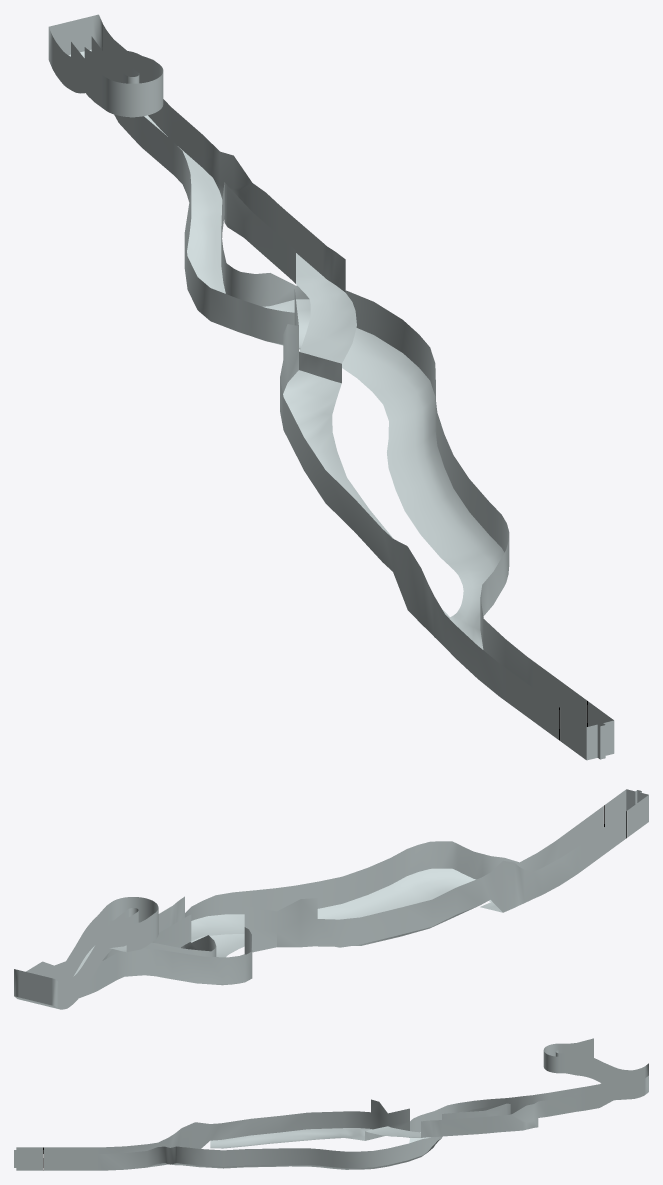
File: Track1.fbx
The picture shows the model from 3 angles, top to bottom: view 1: azimuth 30°, elevation 25°; view 2: azimuth 150°, elevation 25°; view 3: azimuth 270°, elevation 25°; orthographic projection. The views are drawn at different scales.
Visible parts, largest first — view 1: Walls, Track; view 2: Walls, Track; view 3: Walls, Track.
Part boxes in pixels (left/top/right/bottom): Walls: left=48, top=14, right=614, bottom=760; Track: left=68, top=49, right=504, bottom=649; Walls: left=14, top=789, right=648, bottom=1009; Track: left=14, top=868, right=502, bottom=1008; Walls: left=14, top=1038, right=648, bottom=1170; Track: left=148, top=1114, right=511, bottom=1169.
Size of the model in its own units: 9106 by 12914 by 52821.
